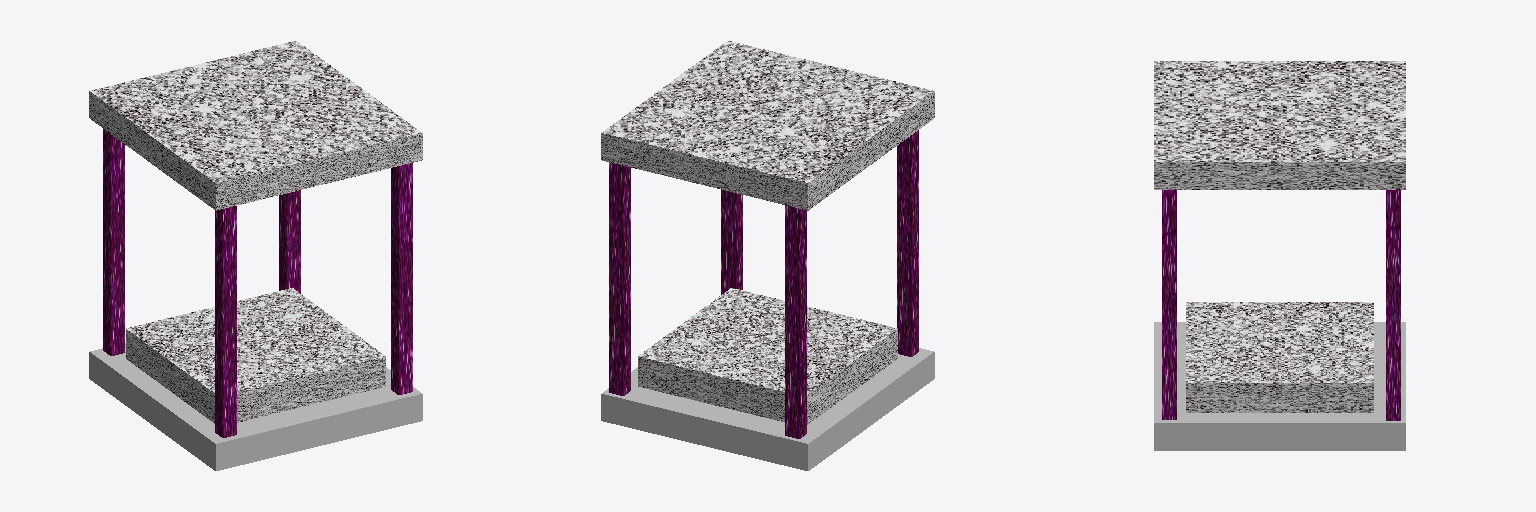
3 renders of one model, left to right at view 1: azimuth 30°, elevation 25°; view 2: azimuth 150°, elevation 25°; view 3: azimuth 270°, elevation 25°, orthographic.
Visible parts, largest first — view 1: Cube.006, Cube.001, Cube, Cube.005, Cube.004, Cube.003, Cube.002; view 2: Cube.006, Cube.001, Cube, Cube.003, Cube.002, Cube.004, Cube.005; view 3: Cube.006, Cube.001, Cube, Cube.002, Cube.005.
Boxes of the visible parts, <box> form: Cube.006: <box>89,41,422,210</box>; Cube.001: <box>126,288,385,423</box>; Cube: <box>89,343,422,470</box>; Cube.005: <box>391,163,412,394</box>; Cube.004: <box>215,206,236,437</box>; Cube.003: <box>103,129,124,355</box>; Cube.002: <box>279,190,300,293</box>; Cube.006: <box>601,41,934,210</box>; Cube.001: <box>638,288,897,424</box>; Cube: <box>601,348,934,470</box>; Cube.003: <box>785,205,806,438</box>; Cube.002: <box>609,162,630,395</box>; Cube.004: <box>897,130,918,356</box>; Cube.005: <box>721,190,742,294</box>; Cube.006: <box>1154,61,1405,189</box>; Cube.001: <box>1186,302,1373,412</box>; Cube: <box>1154,322,1405,450</box>; Cube.002: <box>1386,190,1400,420</box>; Cube.005: <box>1162,190,1176,419</box>.
Bounding box in the file's own units: 4.32 × 5.76 × 4.57.
Materials: 7 (2 with a texture image).